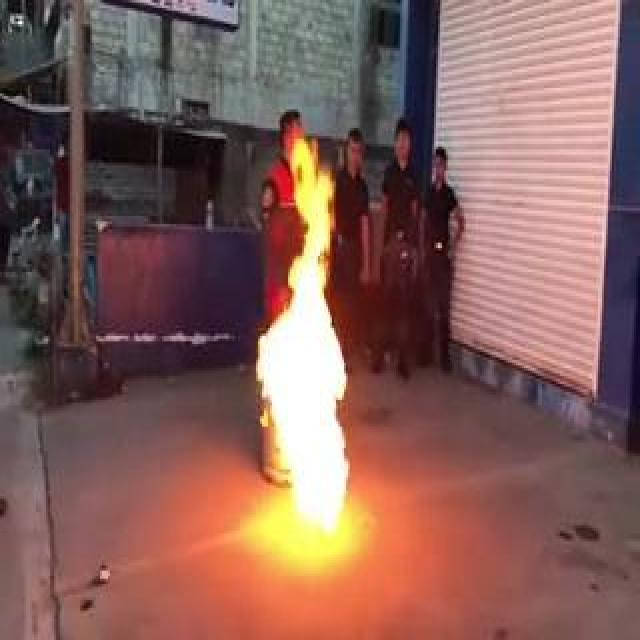Fire: (254, 119, 354, 548)
